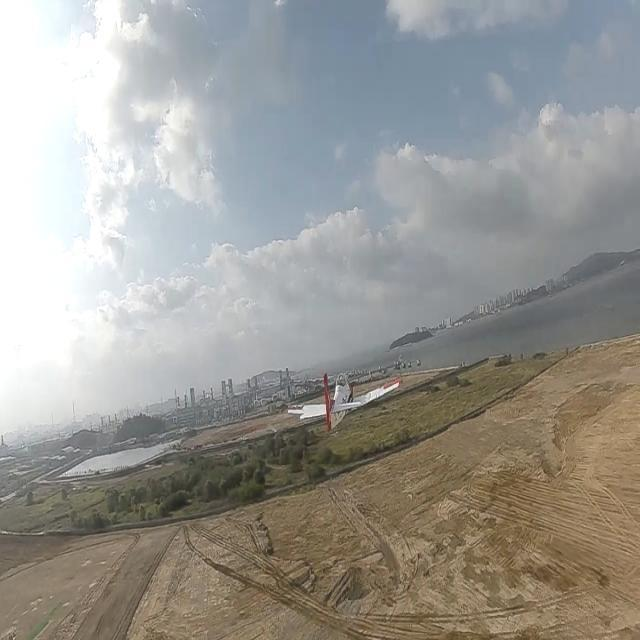iha: (316, 372, 372, 434)
